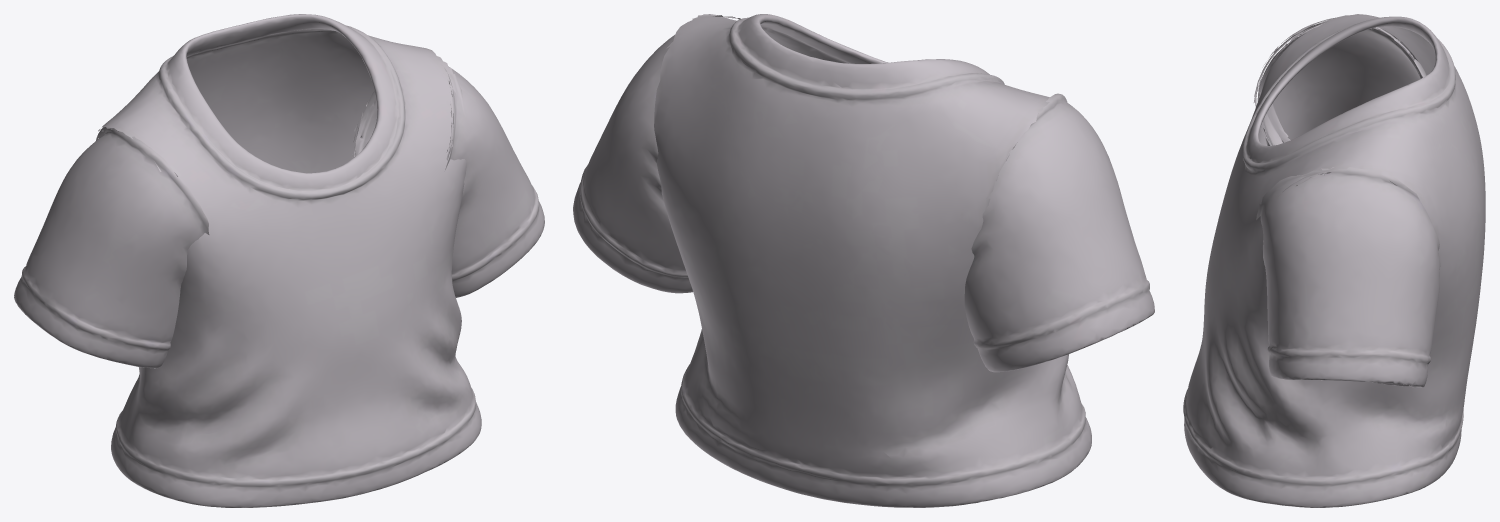
File: T-Shirt.glb
The picture shows the model from 3 angles, left to right: view 1: azimuth 30°, elevation 25°; view 2: azimuth 150°, elevation 25°; view 3: azimuth 270°, elevation 25°; orthographic projection. The views are drawn at different scales.
Visible parts, largest first — view 1: geometry_0.006, geometry_0.007, geometry_0.005; view 2: geometry_0.006, geometry_0.007, geometry_0.005; view 3: geometry_0.006, geometry_0.005, geometry_0.007.
Part boxes in pixels (<box>): geometry_0.006: <box>96,14,481,507</box>; geometry_0.007: <box>14,128,209,368</box>; geometry_0.005: <box>352,64,544,297</box>; geometry_0.006: <box>654,14,1091,507</box>; geometry_0.007: <box>964,93,1154,372</box>; geometry_0.005: <box>573,15,740,293</box>; geometry_0.006: <box>1183,14,1485,507</box>; geometry_0.005: <box>1256,167,1440,387</box>; geometry_0.007: <box>1253,17,1426,145</box>.
Bounding box in the file's own units: 0.4633 × 0.3431 × 0.2436.
1 material, 1 textured.
